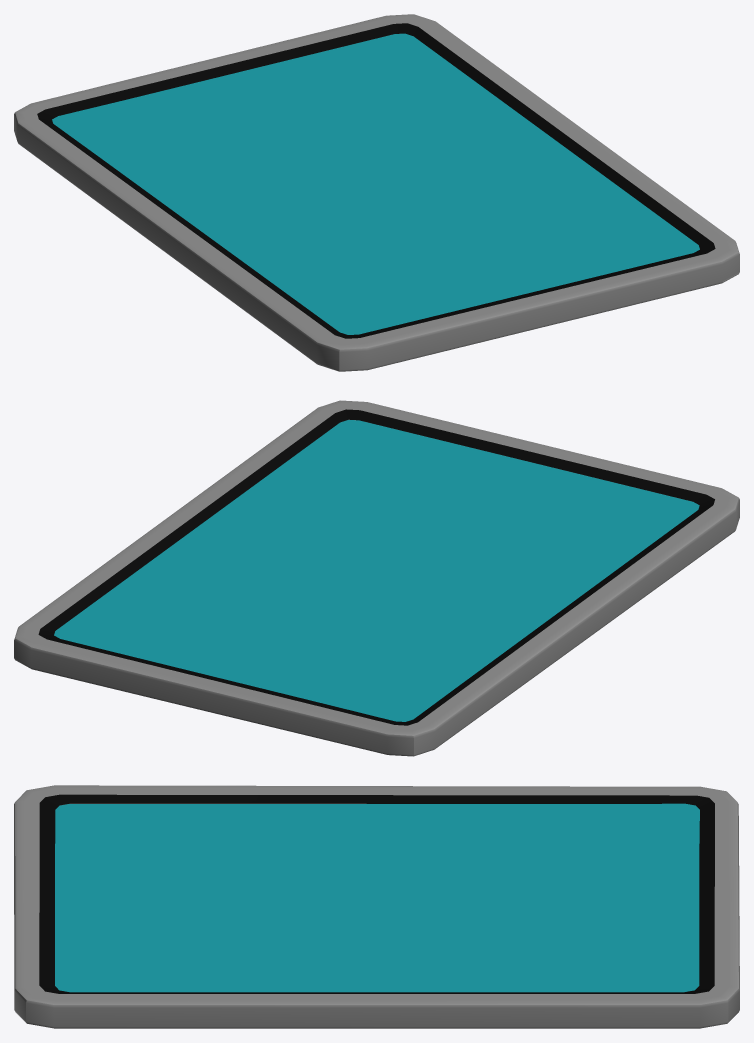
File: Tablet01.fbx
3 renders of one model, top to bottom at view 1: azimuth 30°, elevation 25°; view 2: azimuth 150°, elevation 25°; view 3: azimuth 270°, elevation 25°, orthographic. The views are drawn at different scales.
Visible parts, largest first — view 1: Screen02, Tablet01; view 2: Screen02, Tablet01; view 3: Screen02, Tablet01.
Boxes of the visible parts, x1=… form: Screen02: x1=52, y1=33, x2=699, y2=334; Tablet01: x1=14, y1=14, x2=739, y2=371; Screen02: x1=54, y1=420, x2=699, y2=721; Tablet01: x1=14, y1=400, x2=739, y2=756; Screen02: x1=55, y1=803, x2=699, y2=992; Tablet01: x1=14, y1=785, x2=739, y2=1028.
Bounding box in the file's own units: 13.79 × 0.7493 × 19.18.
